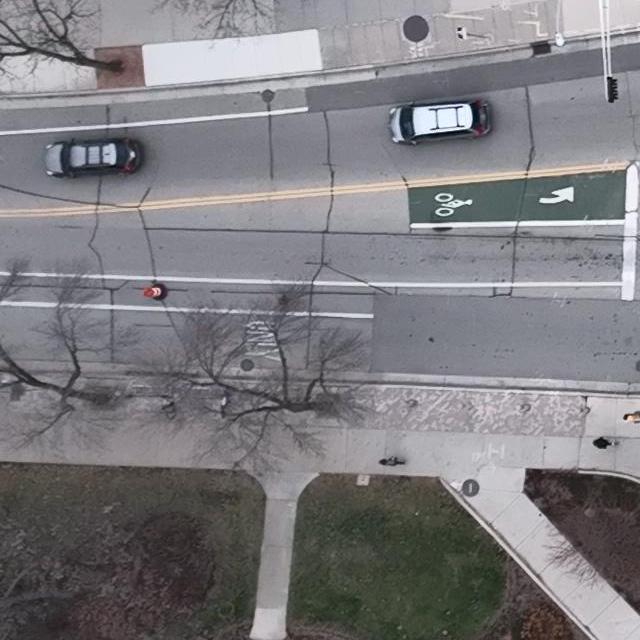car: (387, 98, 494, 145), (44, 138, 145, 180)
